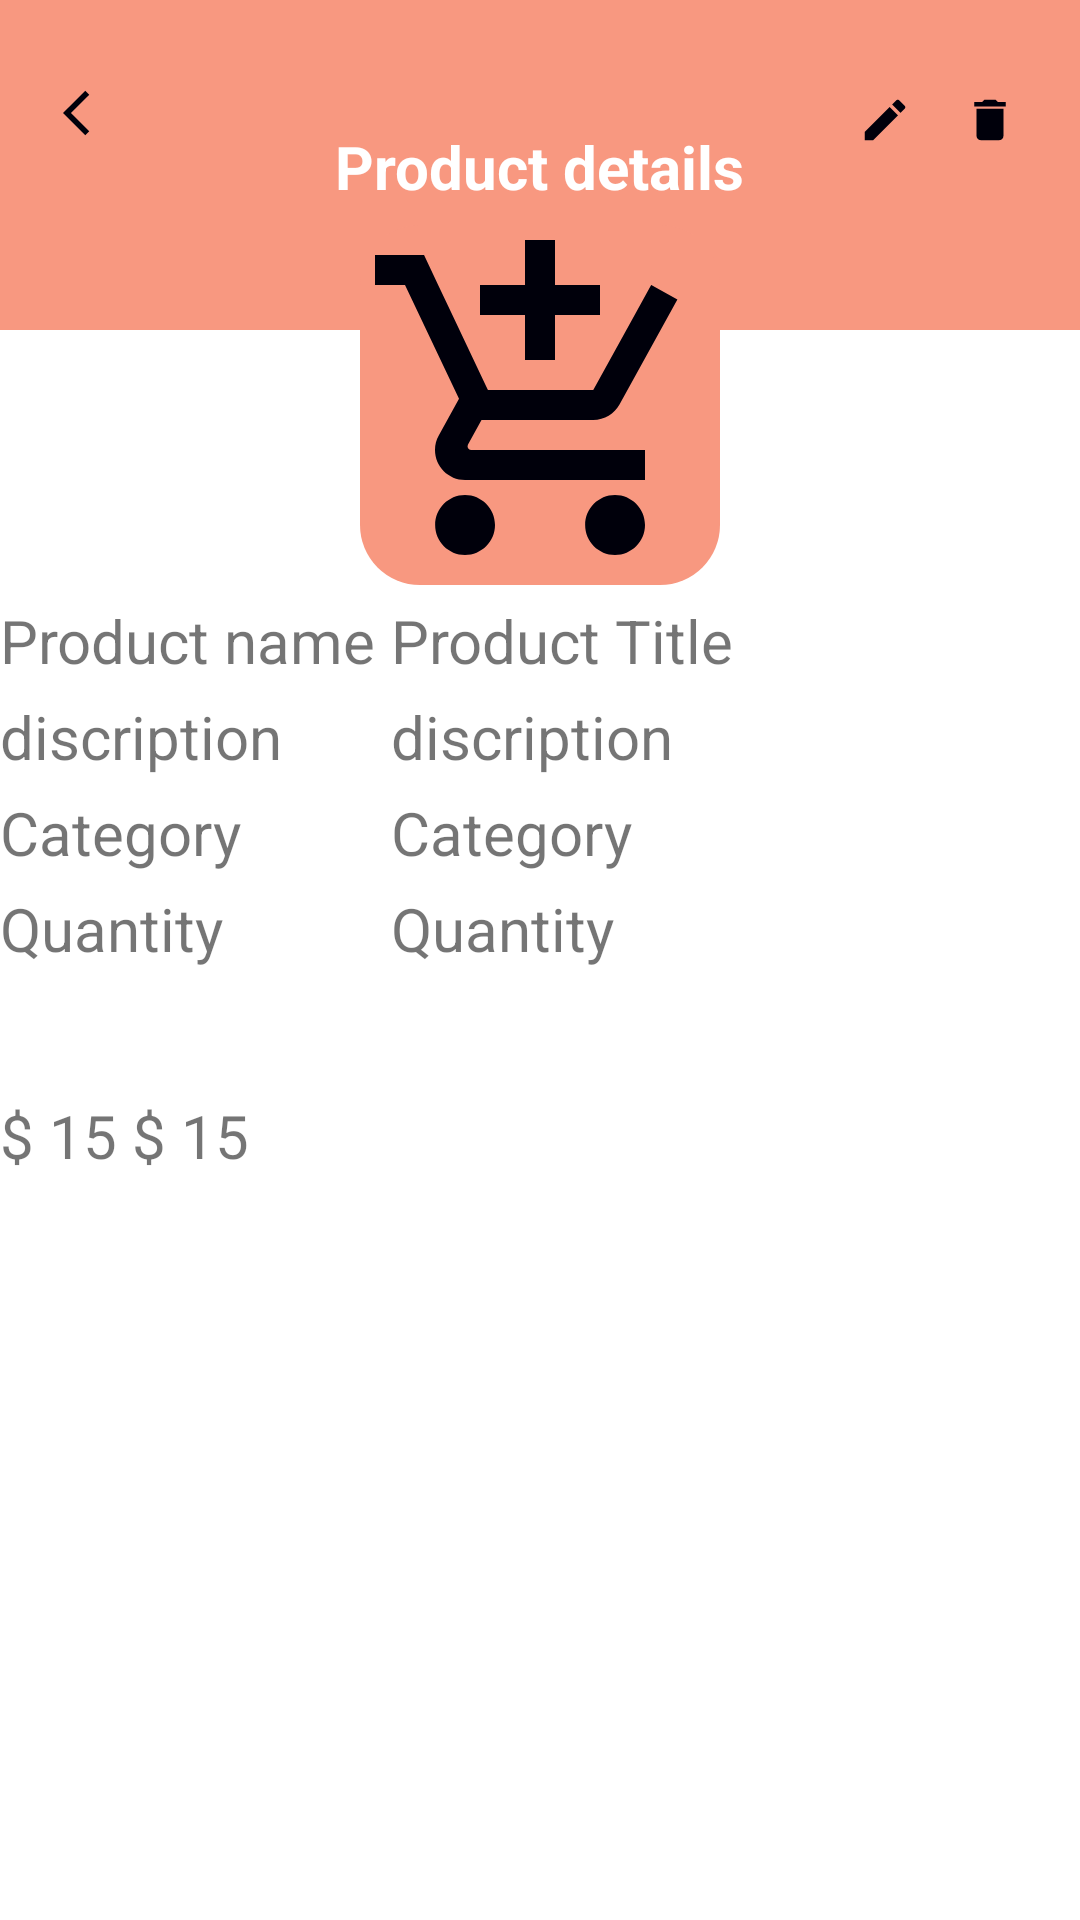

Where icons sit on this 1080 × 1920 app screen, as bbox=(x1, y1, x2, y2):
back: bbox=(63, 91, 89, 135)
cart: bbox=(360, 225, 720, 585)
delete: bbox=(974, 99, 1006, 141)
editprofile: bbox=(864, 99, 906, 141)
